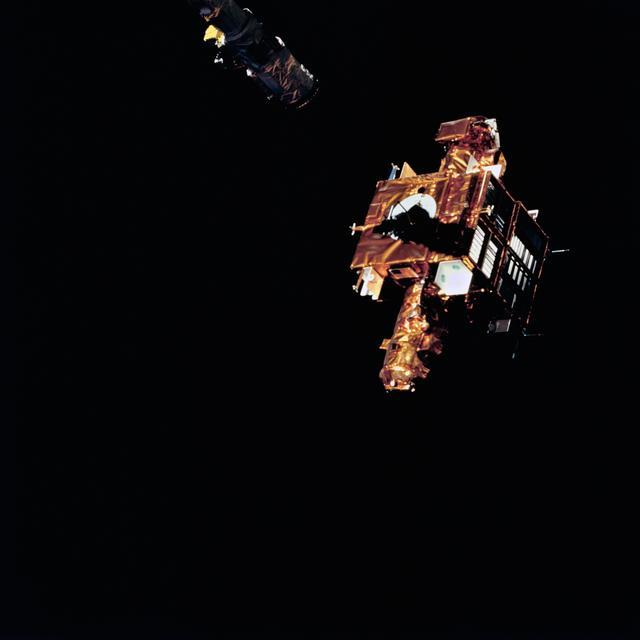medium_debris: (351, 116, 549, 391), (190, 0, 318, 108)
